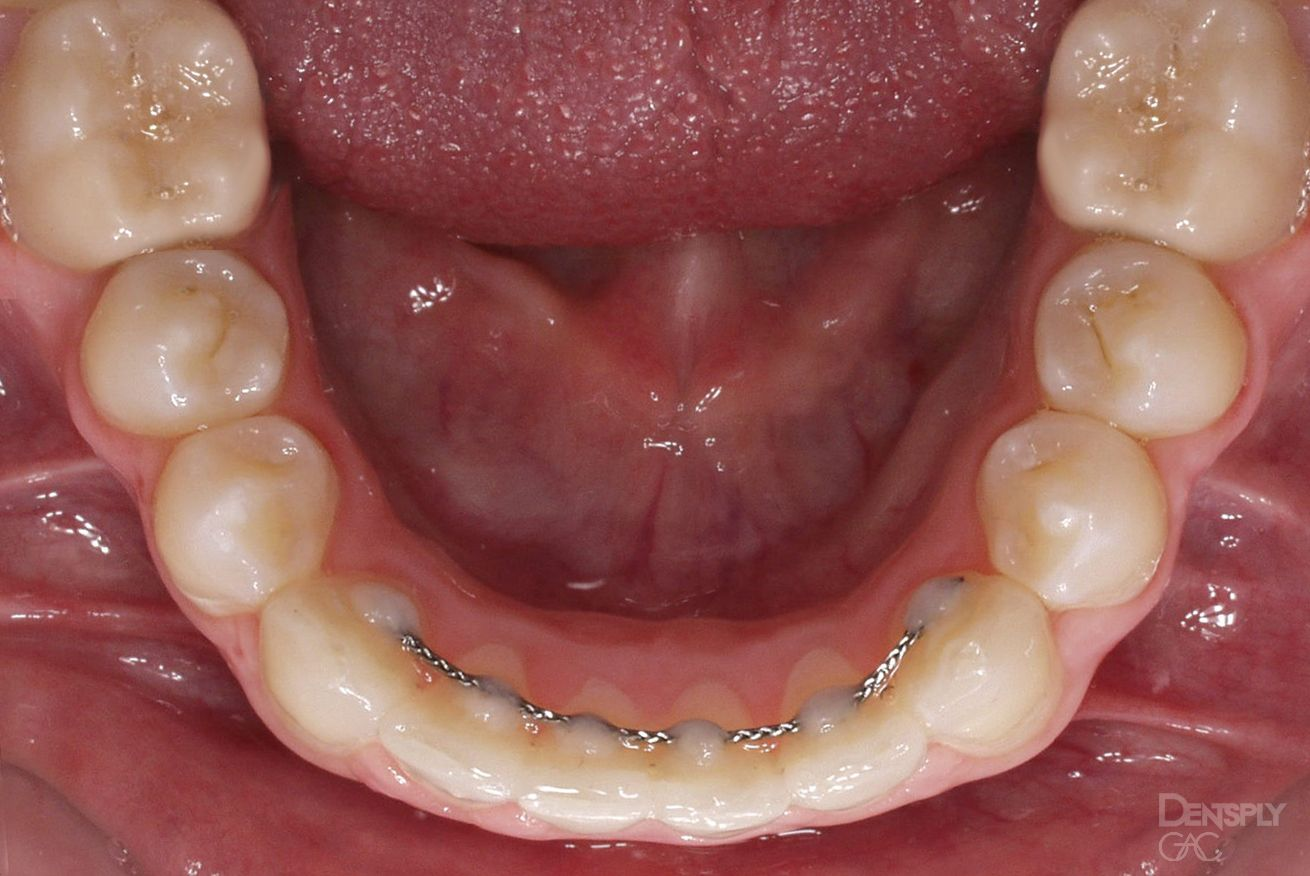LL1BC_healthy: (971, 409, 1171, 611)
LL1M_decay: (1038, 4, 1306, 260)
LL2BC_decay: (1025, 235, 1252, 437)
LLCI_decay: (651, 677, 793, 839)
LLC_decay: (883, 569, 1062, 756)
LLLI_decay: (783, 648, 929, 817)
LR1BC_healthy: (143, 417, 347, 615)
LR1M_decay: (3, 1, 292, 276)
LR2BC_decay: (76, 251, 296, 438)
LRCI_decay: (531, 669, 650, 834)
LRC_decay: (257, 576, 430, 751)
LRLI_decay: (389, 646, 544, 805)
